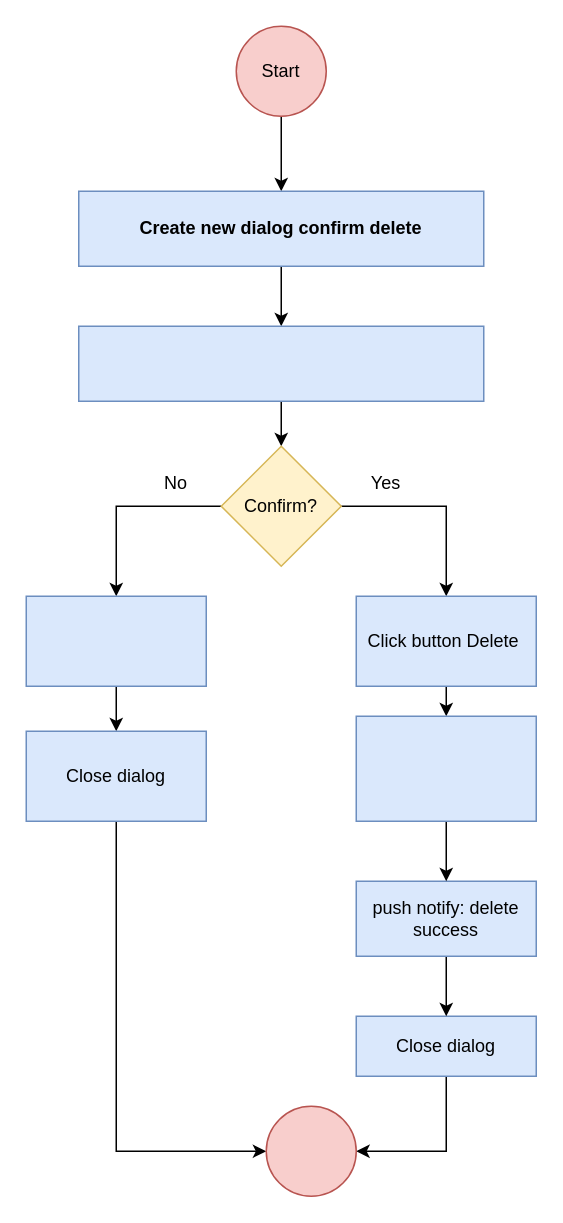
Image size: 563x1223. Some labels were removed from this diagram. Here are the shapes that lost their labels. From the top down, the box of each, then its label:
(77, 325, 484, 401): Access to 2 buttons
(25, 595, 206, 686): Click button Cancel
(355, 715, 536, 821): get ID and remove
(265, 1105, 356, 1196): End
